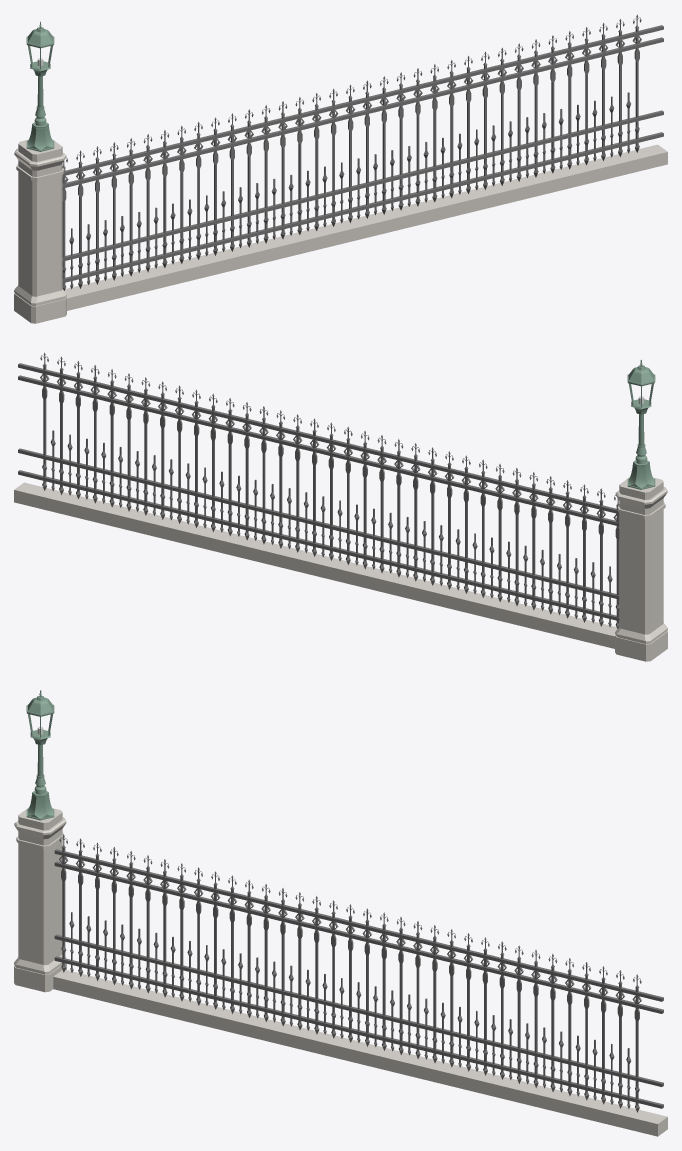
Rendered from 916_european_fence.glb.
3 renders of one model, top to bottom at view 1: azimuth 30°, elevation 25°; view 2: azimuth 150°, elevation 25°; view 3: azimuth 330°, elevation 25°, orthographic.
Parts seen in each view (by area): view 1: Body; view 2: Body; view 3: Body.
Part boxes in pixels (<box>): Body: <box>14,14,667,323</box>; Body: <box>14,352,667,661</box>; Body: <box>14,690,667,1136</box>.
Bounding box in the file's own units: 10.33 × 4.47 × 0.589.
